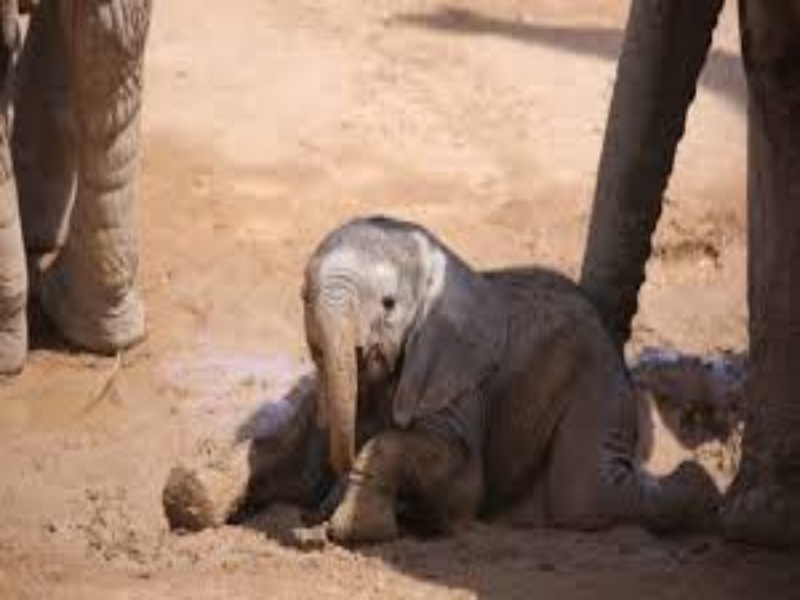elephant: (261, 186, 635, 536)
